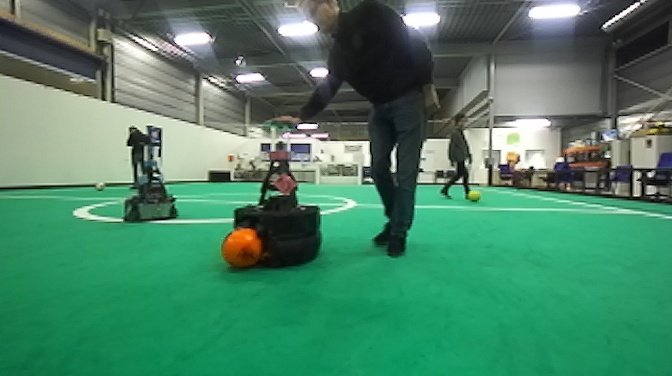ball: (219, 225, 266, 274), (468, 188, 484, 205), (94, 180, 108, 193)
goal: (314, 160, 363, 184)
goalpost: (314, 160, 322, 185), (357, 160, 363, 185)
human: (259, 1, 442, 262), (437, 110, 479, 201), (121, 120, 151, 193)
robot: (230, 119, 325, 272), (121, 135, 182, 225)
